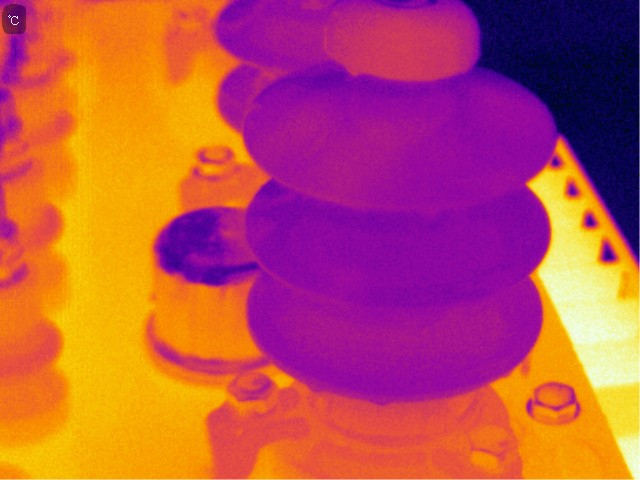Oil: (331, 4, 481, 83), (345, 118, 407, 196), (285, 109, 329, 155), (275, 187, 302, 206), (418, 202, 448, 219), (304, 375, 327, 395), (370, 391, 389, 408), (501, 362, 512, 380)
